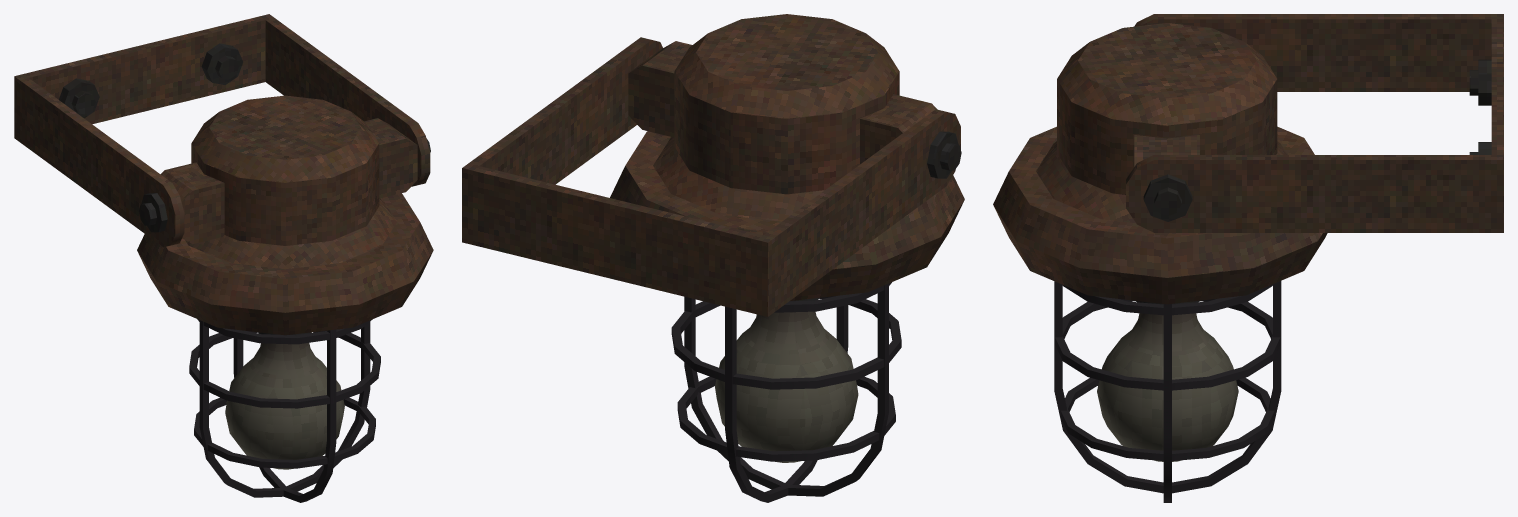
Rendered from lamp_mx_1_b_off.glb.
3 views of the same model, side by side, from view 1: azimuth 30°, elevation 25°; view 2: azimuth 150°, elevation 25°; view 3: azimuth 270°, elevation 25° (orthographic). The views are drawn at different scales.
Parts seen in each view (by area): view 1: lamp_mx_1_b_off; view 2: lamp_mx_1_b_off; view 3: lamp_mx_1_b_off.
Boxes of the visible parts, <box> form: lamp_mx_1_b_off: <box>14,14,433,502</box>; lamp_mx_1_b_off: <box>462,14,964,502</box>; lamp_mx_1_b_off: <box>993,14,1503,502</box>.
Bounding box in the file's own units: 0.1876 × 0.2352 × 0.2522.
3 materials, 3 textured.
